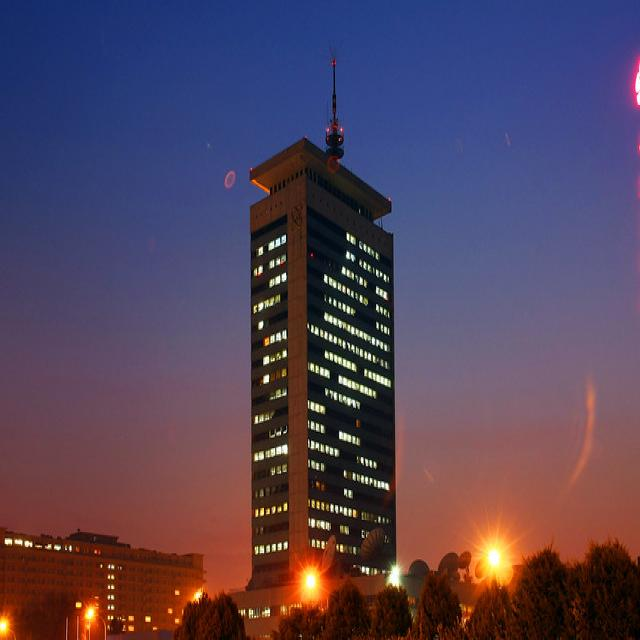Normal_building: (241, 129, 399, 613)
